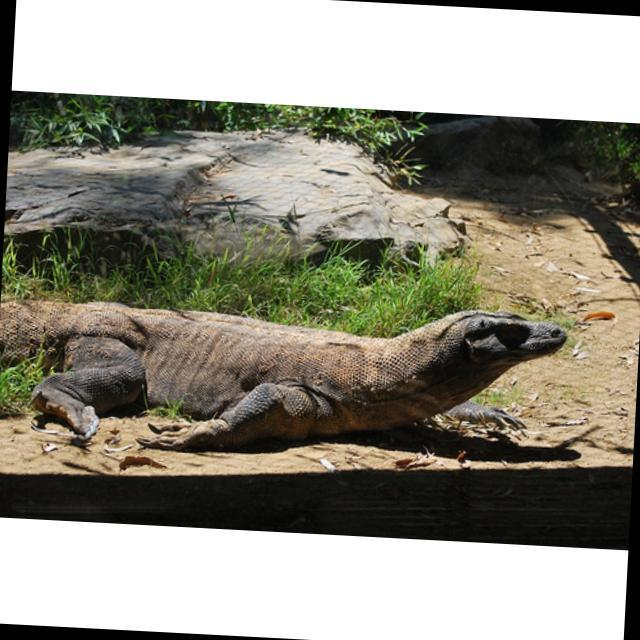KomodoDragon: (0, 281, 568, 470)
